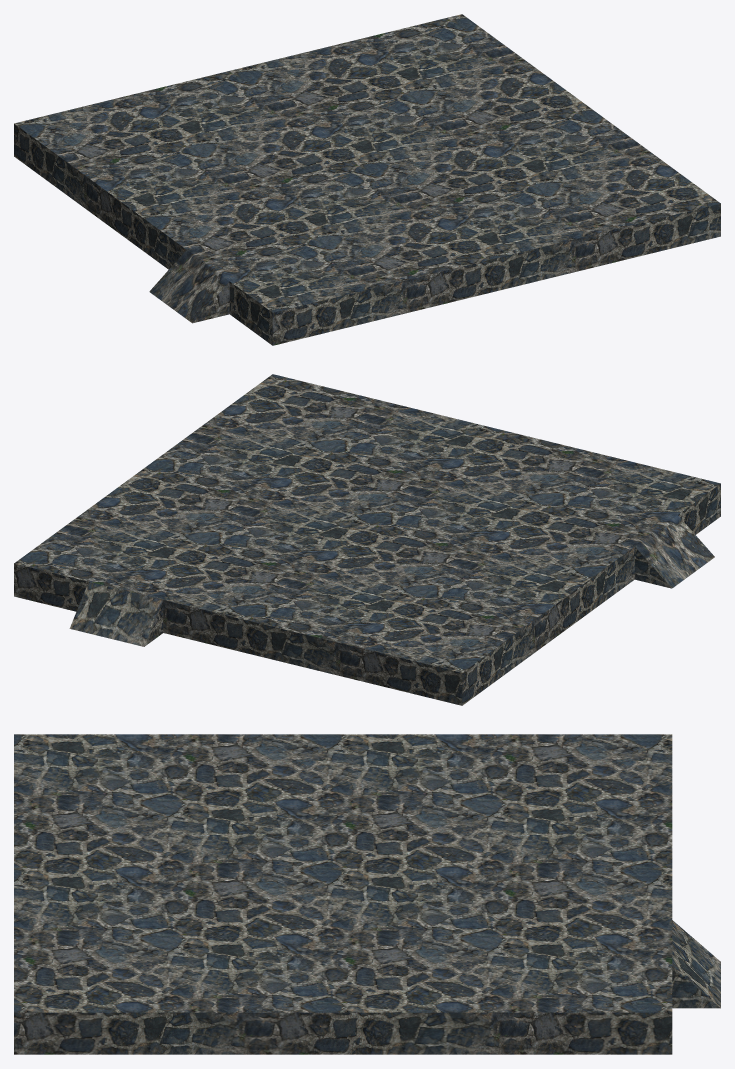
The model's file is court.glb.
3 renders of one model, top to bottom at view 1: azimuth 30°, elevation 25°; view 2: azimuth 150°, elevation 25°; view 3: azimuth 270°, elevation 25°, orthographic. The views are drawn at different scales.
Visible parts, largest first — view 1: Court; view 2: Court; view 3: Court.
Boxes of the visible parts, bbox=[...] form: Court: bbox=[14, 14, 720, 345]; Court: bbox=[14, 374, 720, 705]; Court: bbox=[14, 734, 720, 1054].
Bounding box in the file's own units: 15.97 × 1.04 × 15.84.
1 material, 1 textured.
